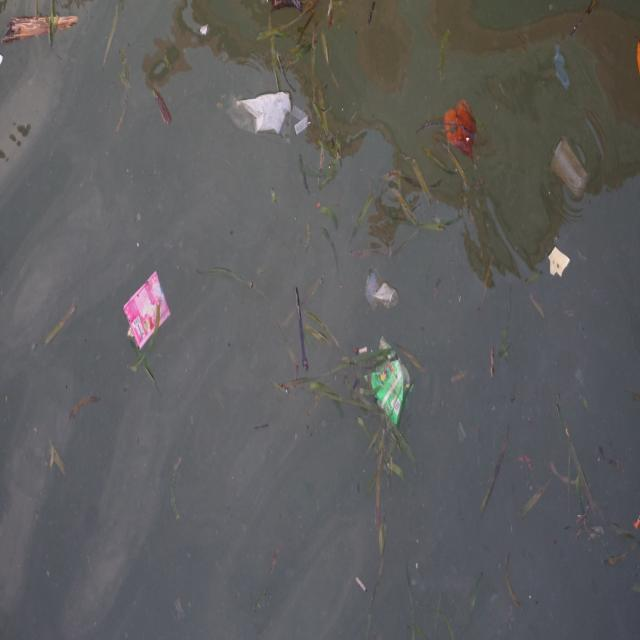Bungkus Makanan: (364, 334, 414, 430)
Bungkus Minuman: (367, 268, 402, 314)
Kantong Plastik: (224, 89, 312, 148)
